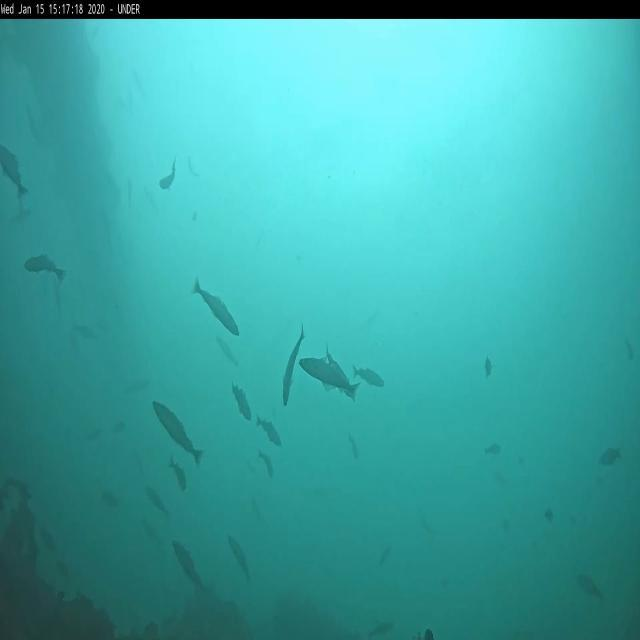fish: (154, 402, 203, 468), (192, 275, 240, 335), (296, 359, 356, 398), (282, 326, 307, 406), (172, 542, 205, 592), (2, 147, 27, 197), (24, 254, 64, 282), (230, 537, 250, 581), (352, 361, 384, 388), (218, 334, 240, 371), (232, 381, 252, 421), (257, 415, 281, 445), (170, 458, 188, 494), (576, 576, 603, 600), (159, 158, 177, 190), (144, 487, 165, 510), (258, 453, 276, 476), (600, 447, 620, 467), (98, 488, 119, 507), (349, 433, 362, 458), (188, 156, 200, 176), (485, 356, 493, 380), (484, 446, 500, 456)
